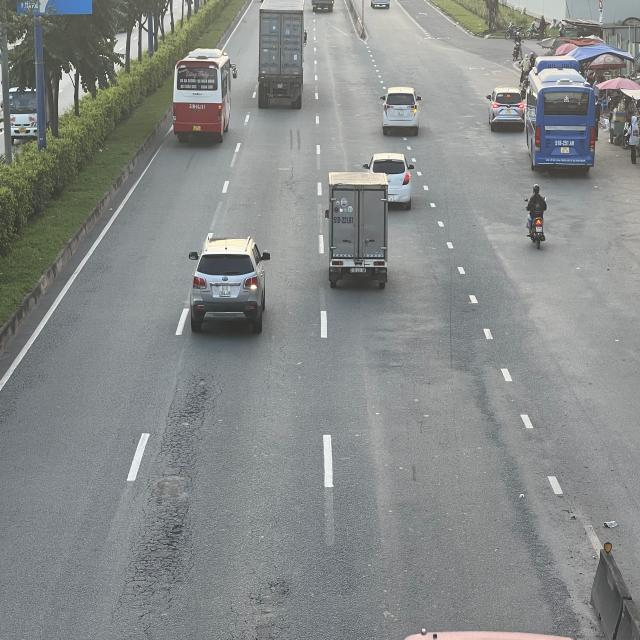car: (188, 239, 269, 336), (368, 152, 416, 206), (381, 84, 424, 132), (486, 86, 526, 129)
coach: (527, 64, 599, 170), (172, 47, 238, 142)
container: (260, 0, 310, 110)
truck: (324, 172, 388, 286)
